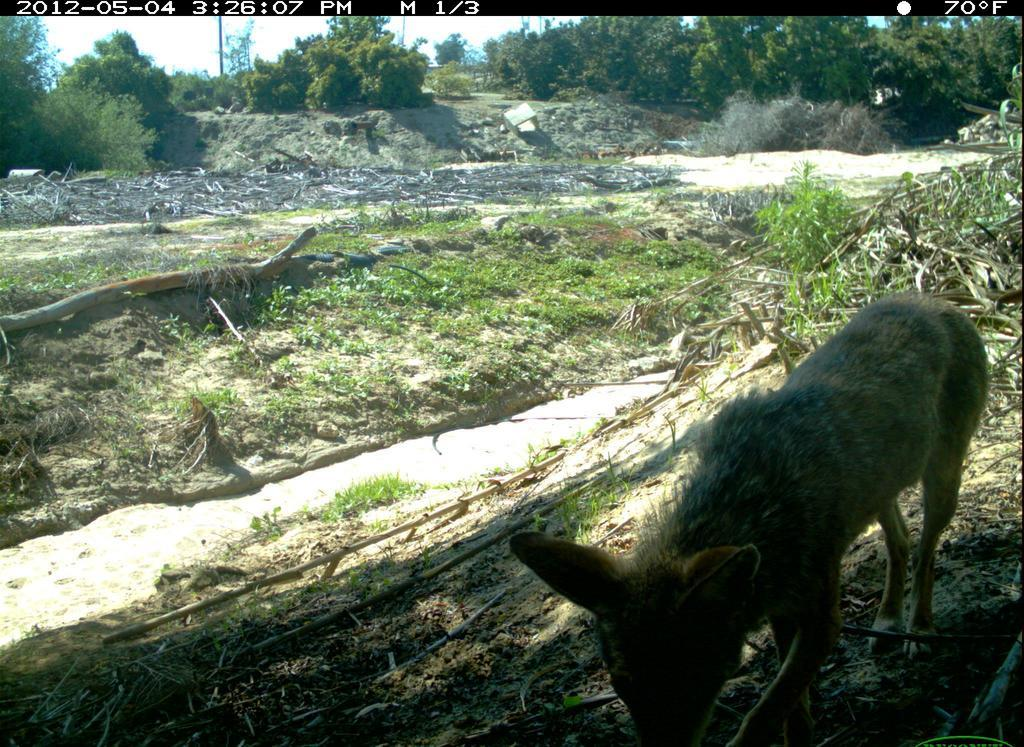coyote: (508, 292, 996, 747)
